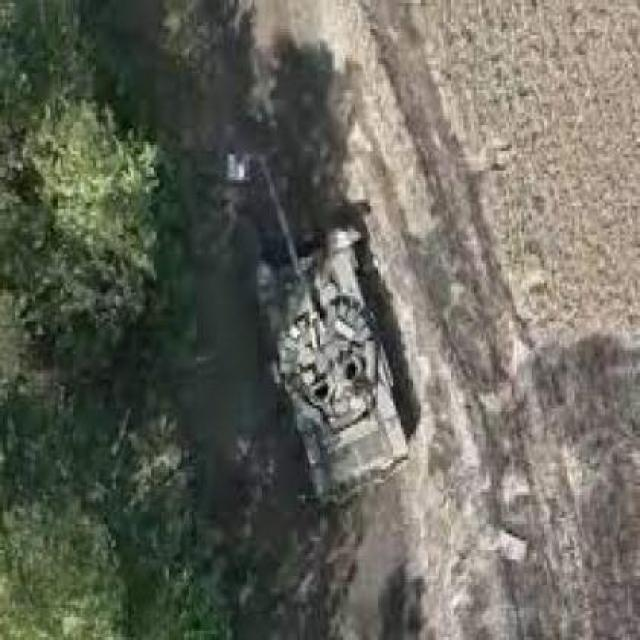tank: (246, 145, 414, 518)
